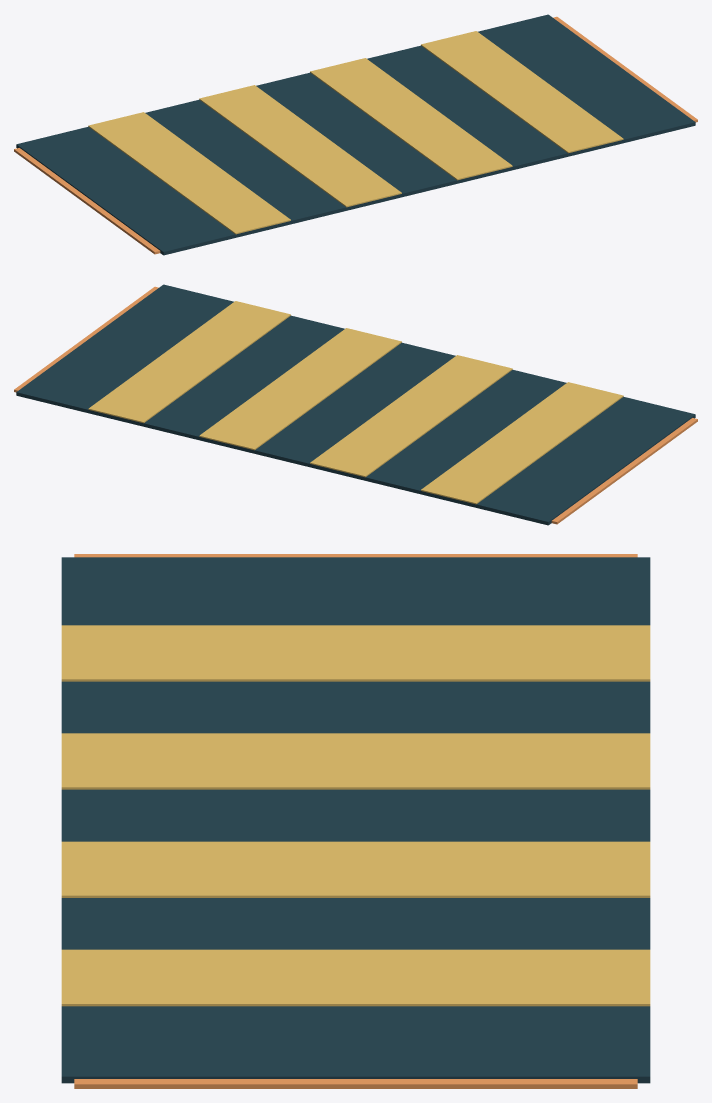
The model's file is striped_rug.5a8aceef2d4a.glb.
The picture shows the model from 3 angles, top to bottom: view 1: azimuth 30°, elevation 25°; view 2: azimuth 150°, elevation 25°; view 3: azimuth 270°, elevation 25°; orthographic projection. The views are drawn at different scales.
Visible parts, largest first — view 1: striped_rug; view 2: striped_rug; view 3: striped_rug.
Boxes of the visible parts, bbox=[...] form: striped_rug: bbox=[14, 14, 697, 255]; striped_rug: bbox=[14, 284, 697, 525]; striped_rug: bbox=[61, 554, 650, 1088].
Size of the model in its own units: 1.96 by 0.016 by 0.92.
